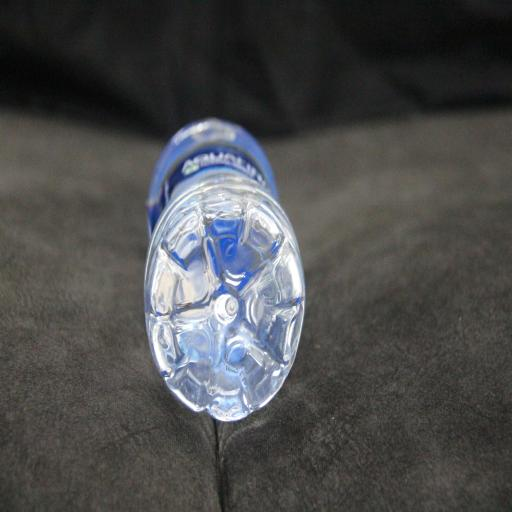Aquafina: (126, 98, 323, 432)
